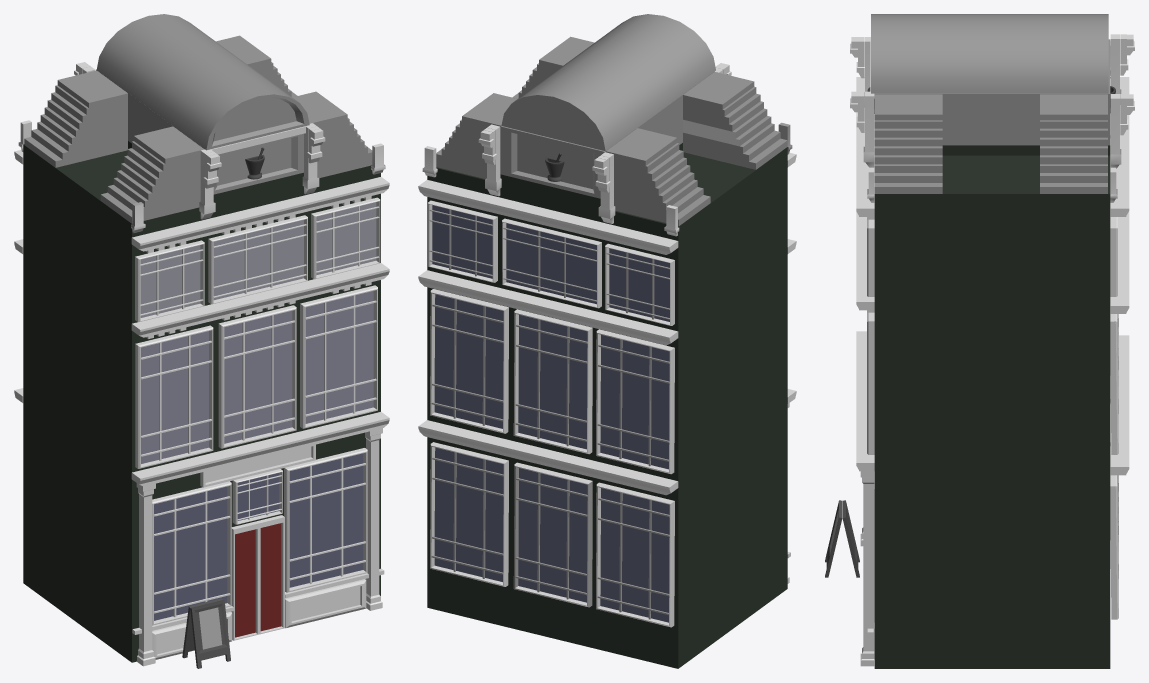
The model's file is HUB_Bld_Apothecary.fbx.
The picture shows the model from 3 angles, left to right: view 1: azimuth 30°, elevation 25°; view 2: azimuth 150°, elevation 25°; view 3: azimuth 270°, elevation 25°; orthographic projection. The views are drawn at different scales.
Parts seen in each view (by area): view 1: Apothecary; view 2: Apothecary; view 3: Apothecary.
Boxes of the visible parts, box(x1,y1,x2,y2) form: Apothecary: box(14, 14, 389, 668); Apothecary: box(418, 14, 796, 668); Apothecary: box(825, 14, 1134, 668).
Size of the model in its own units: 2121 by 4330 by 2090.
